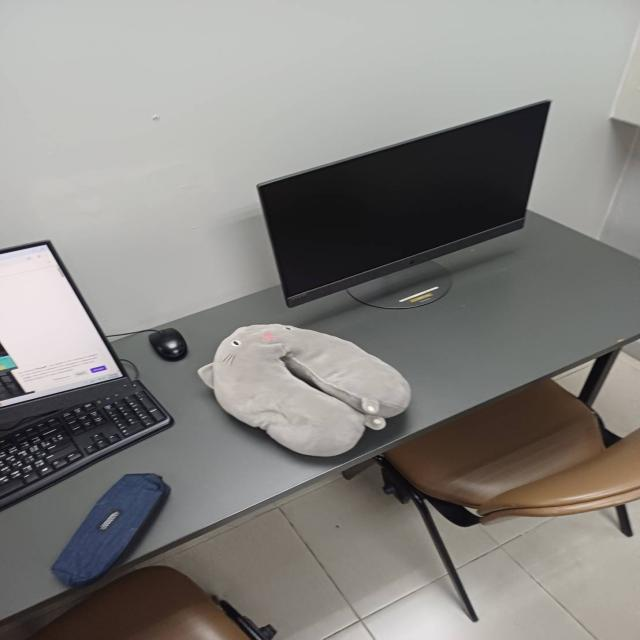pillow: (192, 318, 419, 472)
